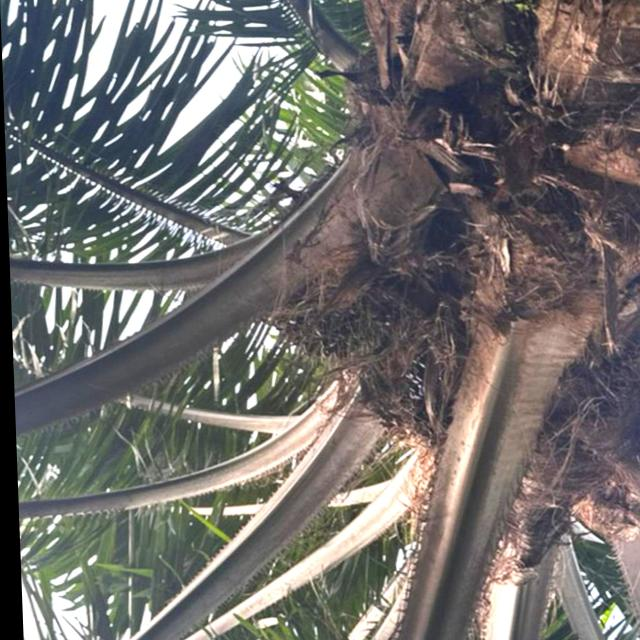unripe: (247, 238, 415, 386)
